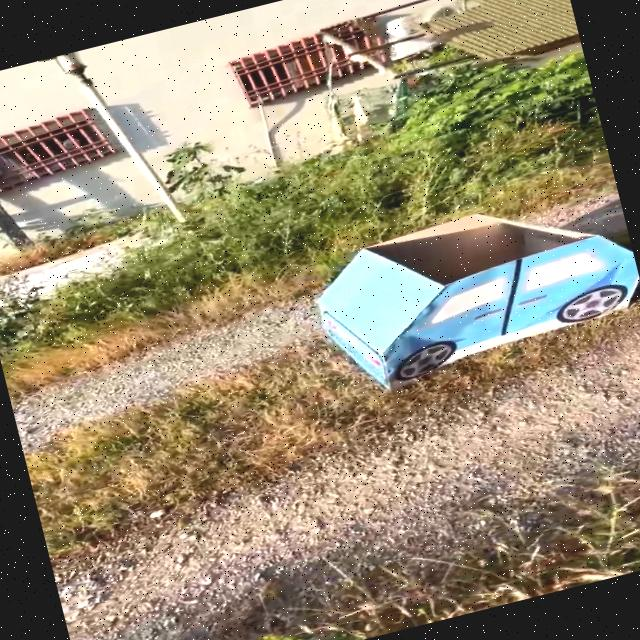blue_car: (249, 166, 640, 444)
